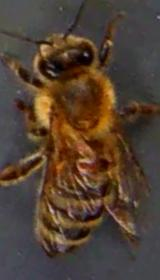varroa_mite: (74, 153, 102, 177)
